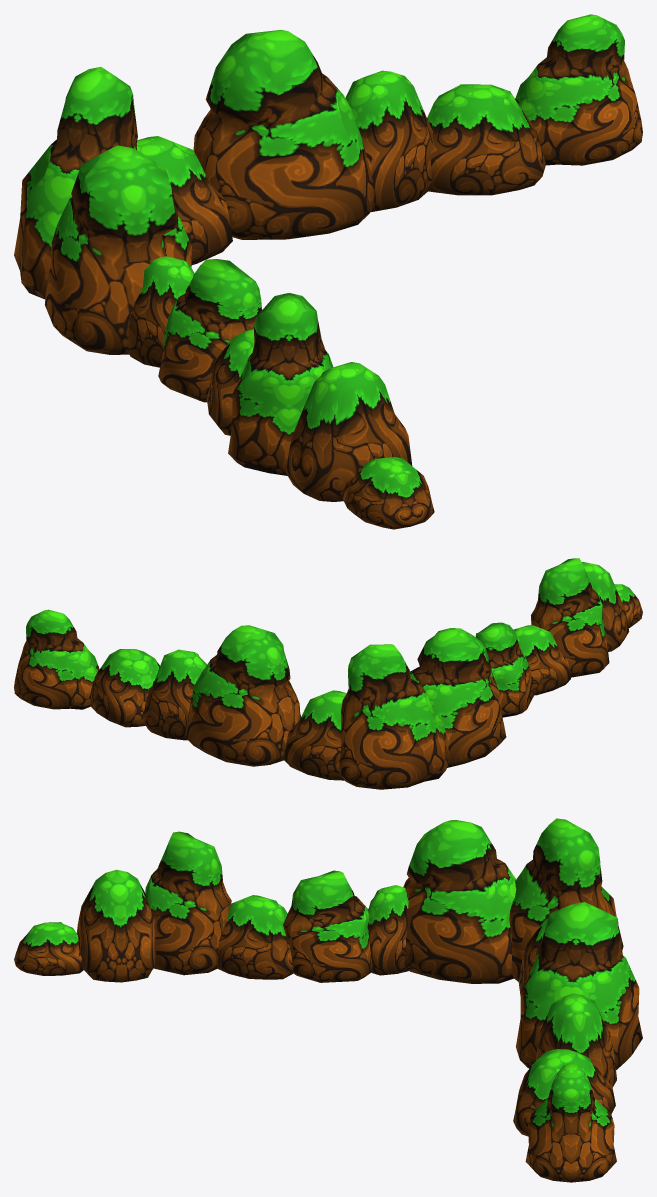
Rendered from Land_Rock_01a.FBX.
The picture shows the model from 3 angles, top to bottom: view 1: azimuth 30°, elevation 25°; view 2: azimuth 150°, elevation 25°; view 3: azimuth 270°, elevation 25°; orthographic projection. The views are drawn at different scales.
Parts seen in each view (by area): view 1: Land_Rock_01a003; view 2: Land_Rock_01a003; view 3: Land_Rock_01a003.
Part boxes in pixels (x1,y1,x2,y2): Land_Rock_01a003: (14,14,642,529); Land_Rock_01a003: (14,558,642,789); Land_Rock_01a003: (14,818,642,1182).
Bounding box in the file's own units: 4296 × 1218 × 4562.
